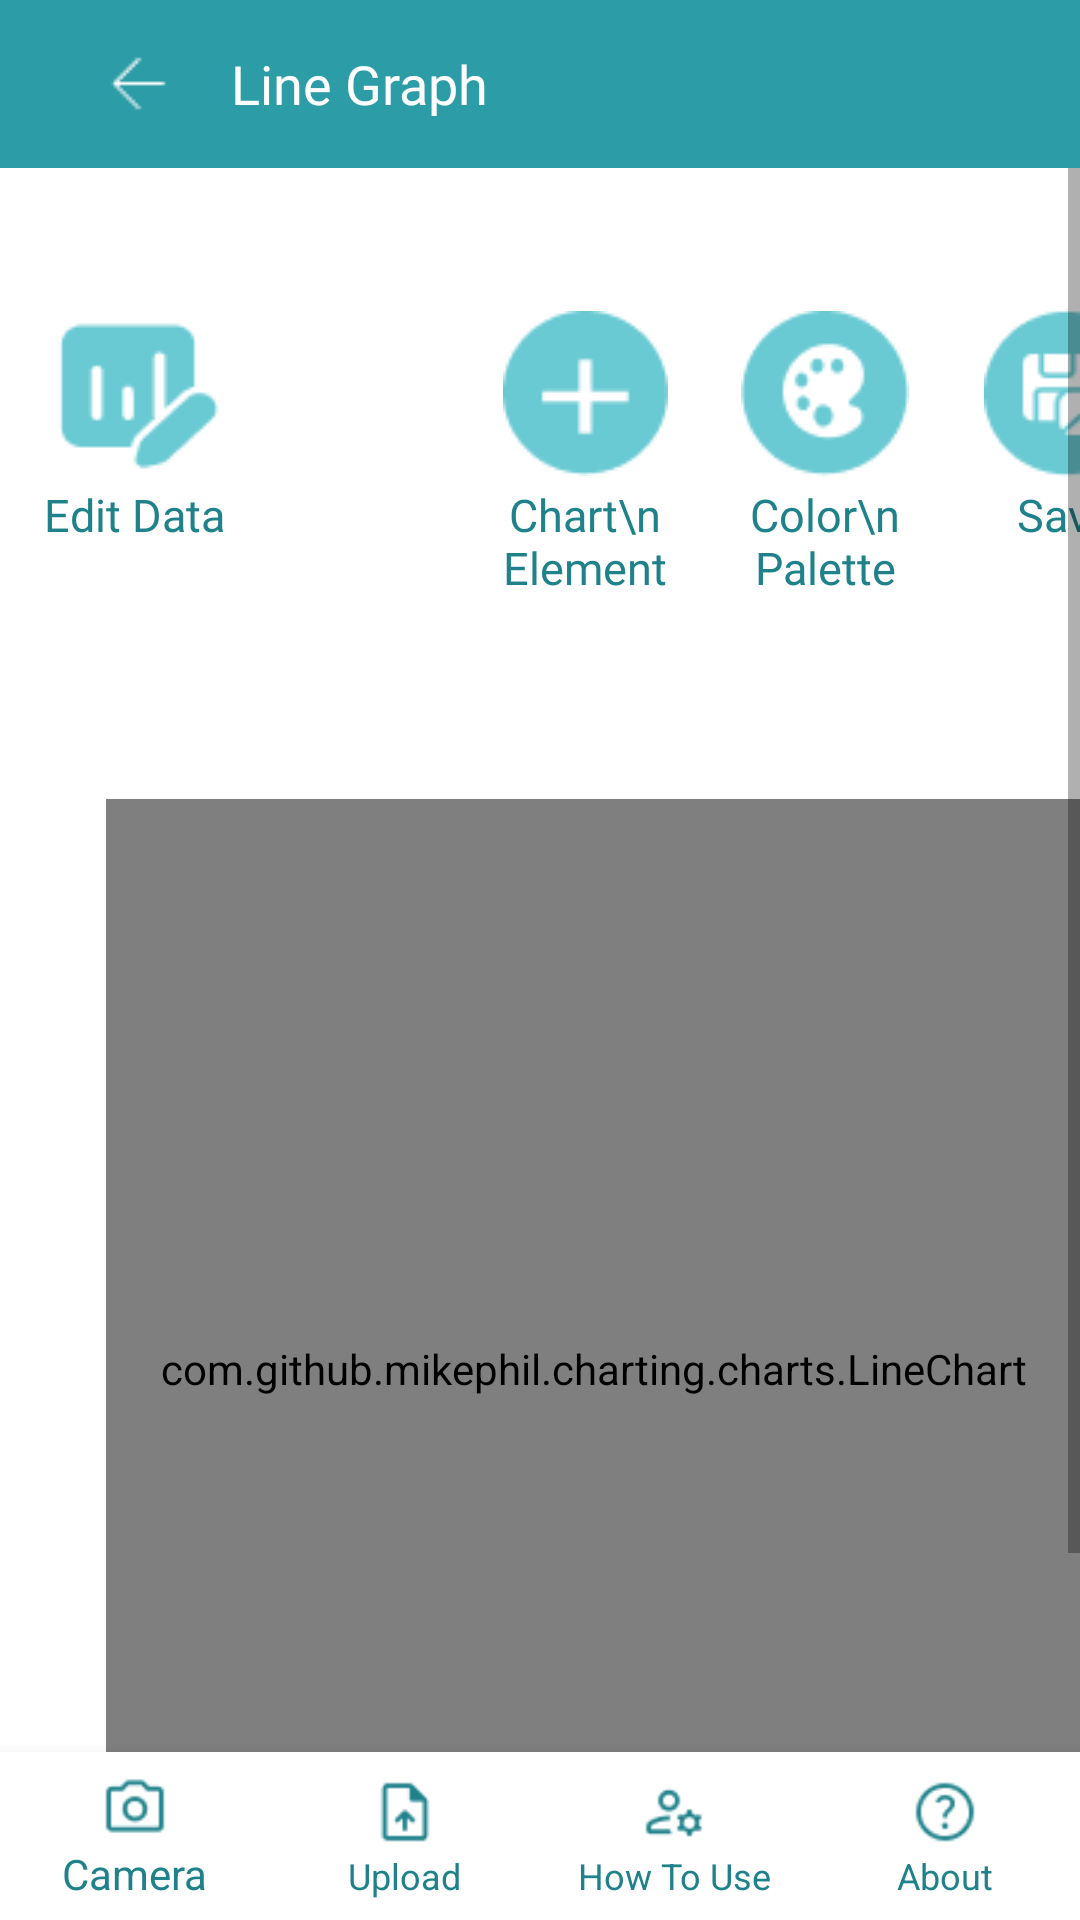

Icons on this 1080x1920 Android screen, each with the point to tap as (x,y):
fback: (138,83)
